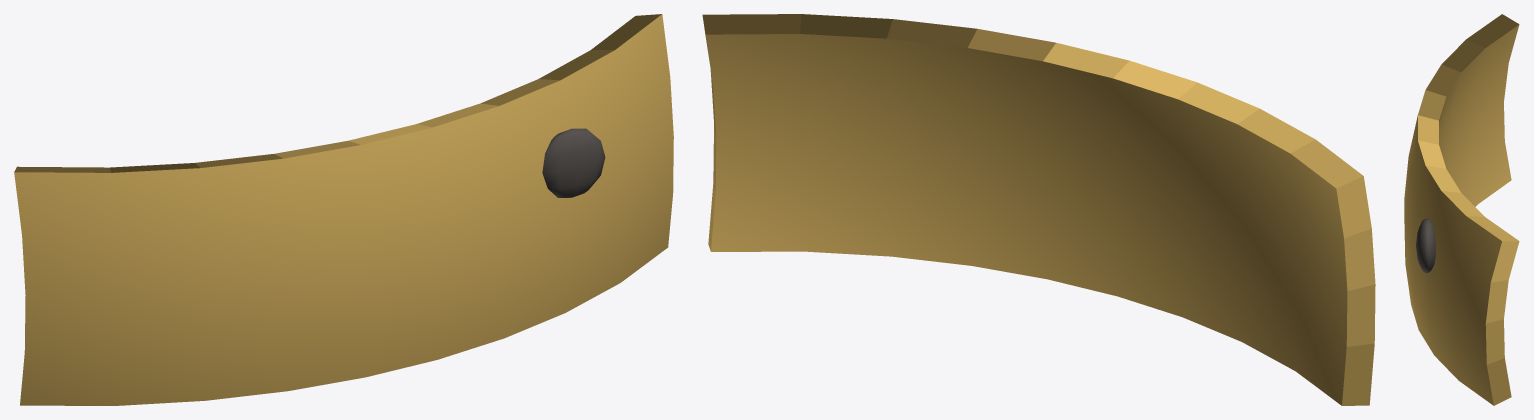
The model's file is masquerade_mask.glb.
The picture shows the model from 3 angles, left to right: view 1: azimuth 30°, elevation 25°; view 2: azimuth 150°, elevation 25°; view 3: azimuth 270°, elevation 25°; orthographic projection. The views are drawn at different scales.
Visible parts, largest first — view 1: masquerade_mask_Head; view 2: masquerade_mask_Head; view 3: masquerade_mask_Head.
Boxes of the visible parts, bbox=[...] form: masquerade_mask_Head: bbox=[14, 14, 673, 405]; masquerade_mask_Head: bbox=[702, 14, 1375, 405]; masquerade_mask_Head: bbox=[1404, 14, 1519, 405].
Bounding box in the file's own units: 0.3915 × 0.1323 × 0.0837.
